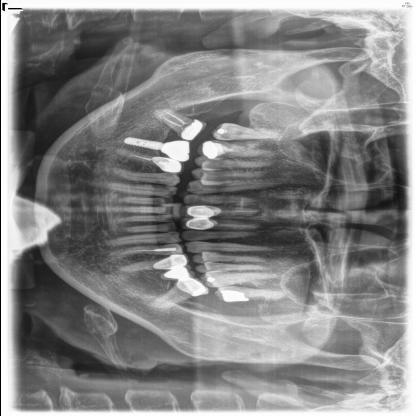ITI: (120, 132, 162, 154)
